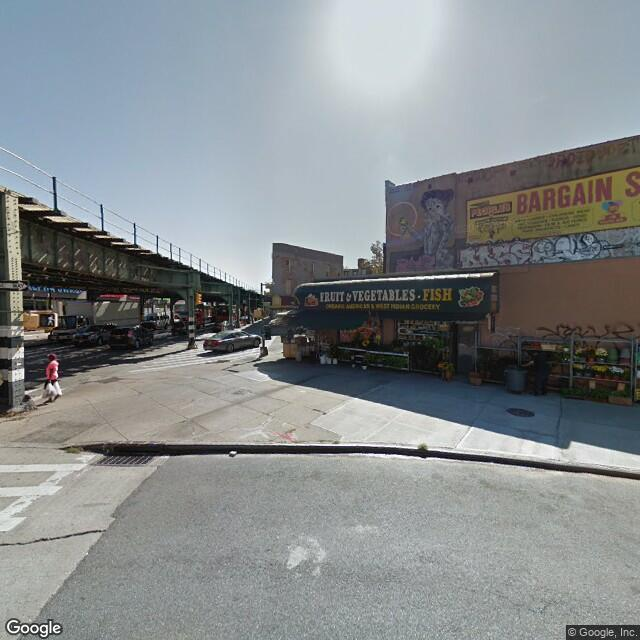litter: (215, 444, 246, 463)
